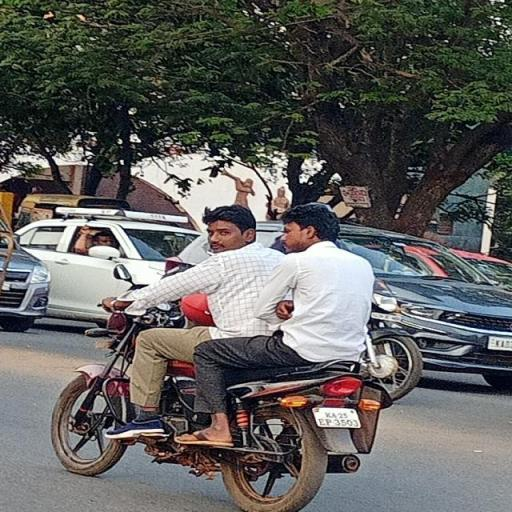bike: (38, 202, 404, 471)
numberplate: (316, 408, 360, 428)
withouthelmet: (280, 206, 338, 246), (203, 206, 255, 249)
